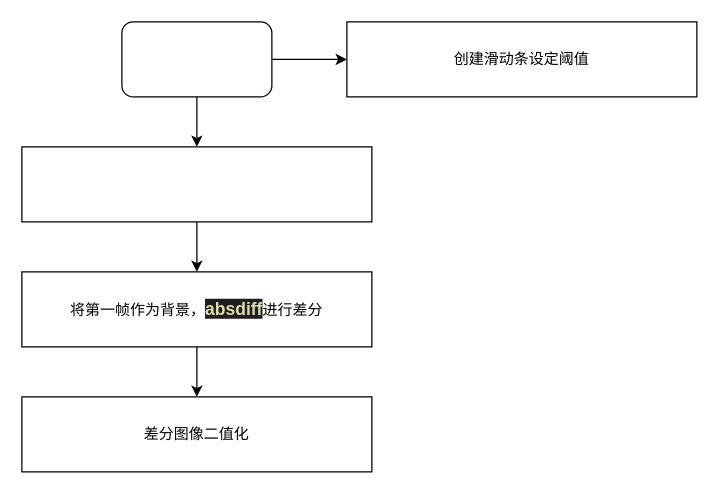
The diagram is 719 pixels wide and 494 high, and some of its shapes have lost their labels. Each missing label, with the centre of its shape:
">> 读取帧，灰度化" belongs at point 196,184.
"VideoCapture 读取视频/摄像头" belongs at point 196,59.
